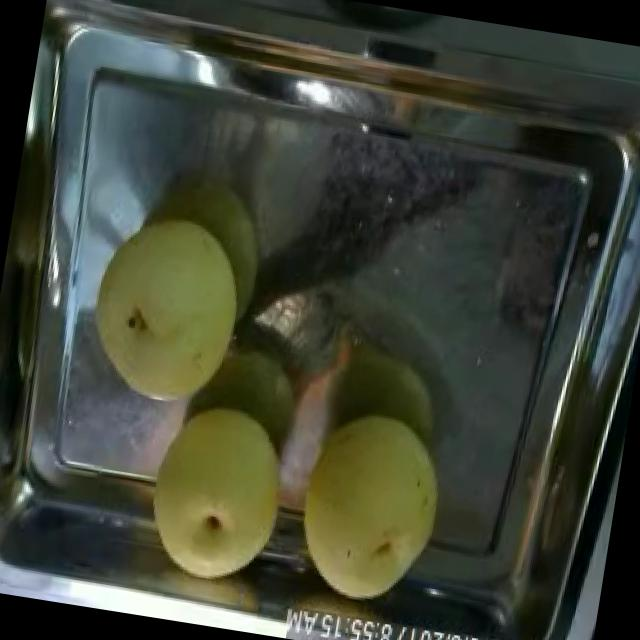Fruit: (68, 198, 266, 430), (278, 392, 464, 624), (126, 382, 310, 602)
